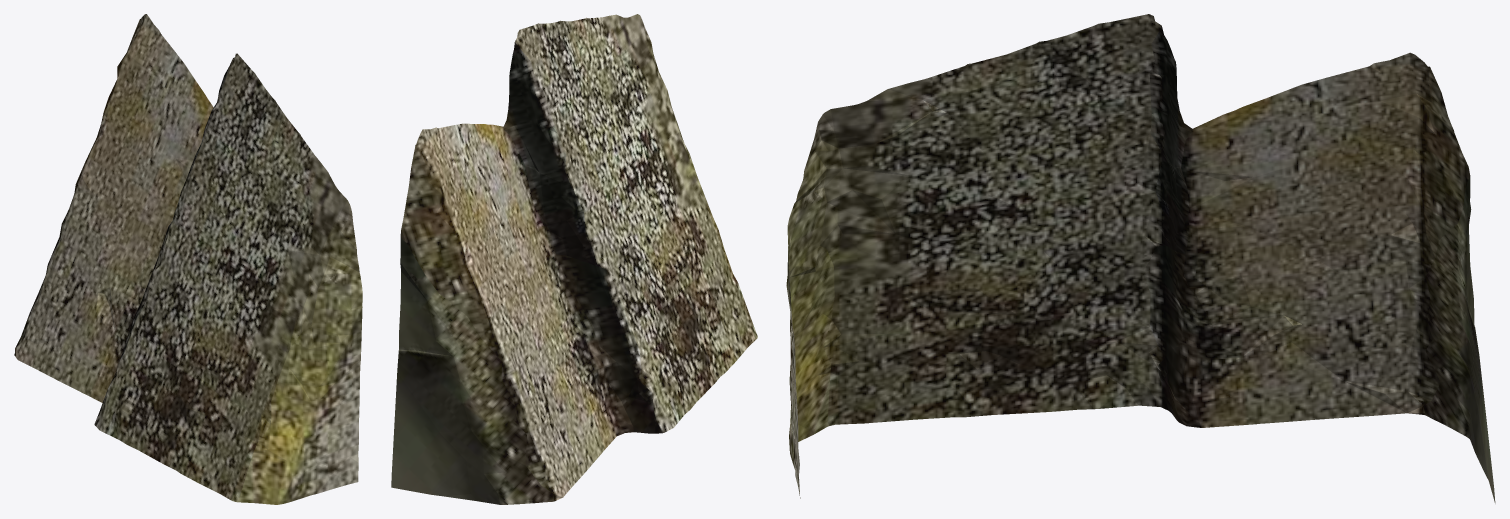
The model's file is Tile_+005_+011.fbx.
The picture shows the model from 3 angles, left to right: view 1: azimuth 30°, elevation 25°; view 2: azimuth 150°, elevation 25°; view 3: azimuth 270°, elevation 25°; orthographic projection. The views are drawn at different scales.
Visible parts, largest first — view 1: Tile_+005_+011_LOD0; view 2: Tile_+005_+011_LOD0; view 3: Tile_+005_+011_LOD0.
Boxes of the visible parts, x1,y1,x2,y2 form: Tile_+005_+011_LOD0: [14, 14, 362, 504]; Tile_+005_+011_LOD0: [391, 14, 757, 504]; Tile_+005_+011_LOD0: [786, 14, 1495, 503].
Size of what is drawn, in the model's own units: 14.14 by 32.63 by 42.7.
